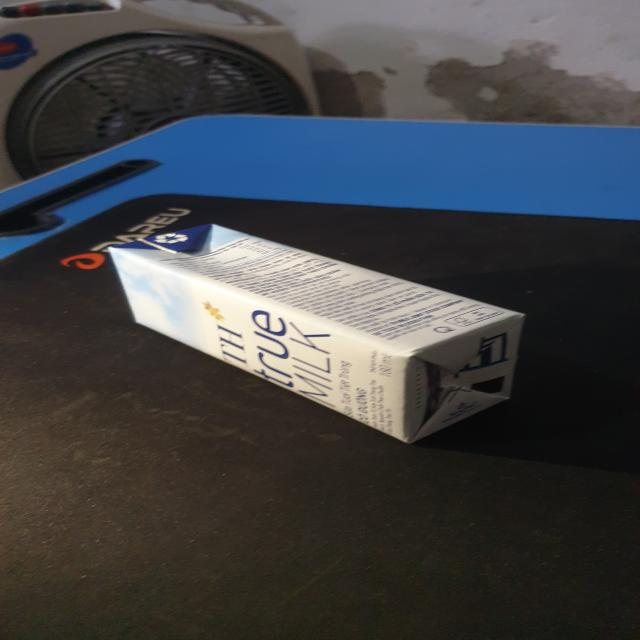TH: (108, 222, 523, 443)
